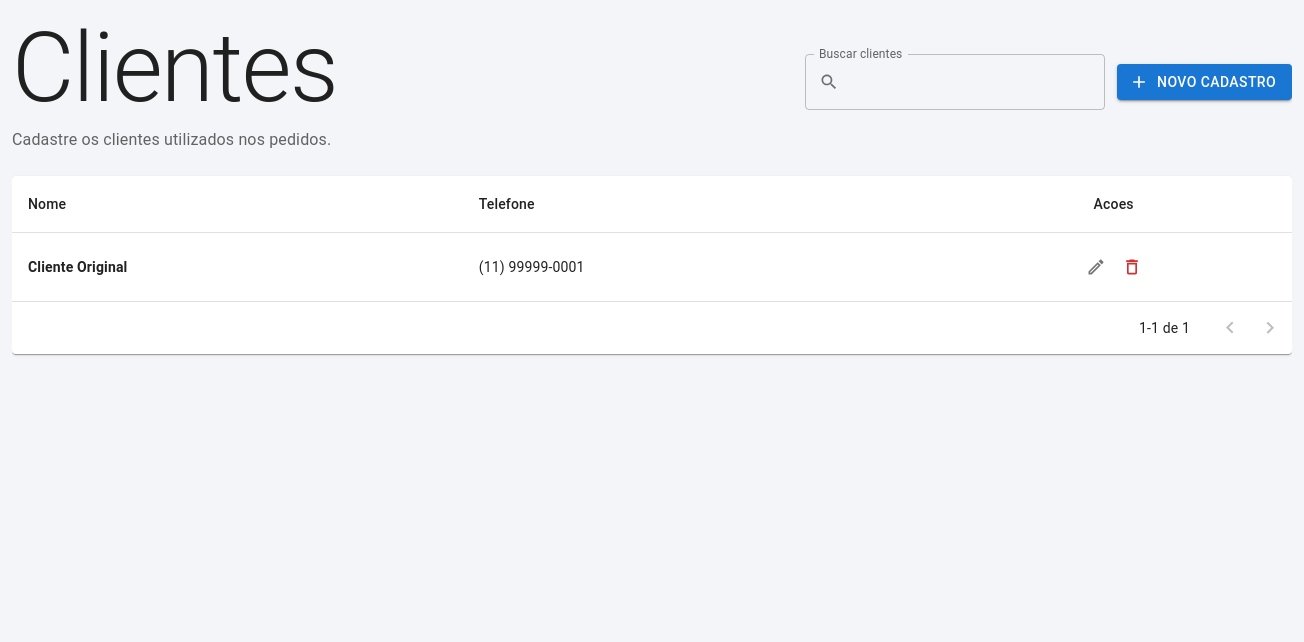
Test: ClientsPage › edita um cliente existente
Expected: the text "Cliente Original" is shown, [12, 232, 463, 302]
Click the button named "Editar Cliente Original" at (1096, 267), box [1078, 249, 1114, 285]
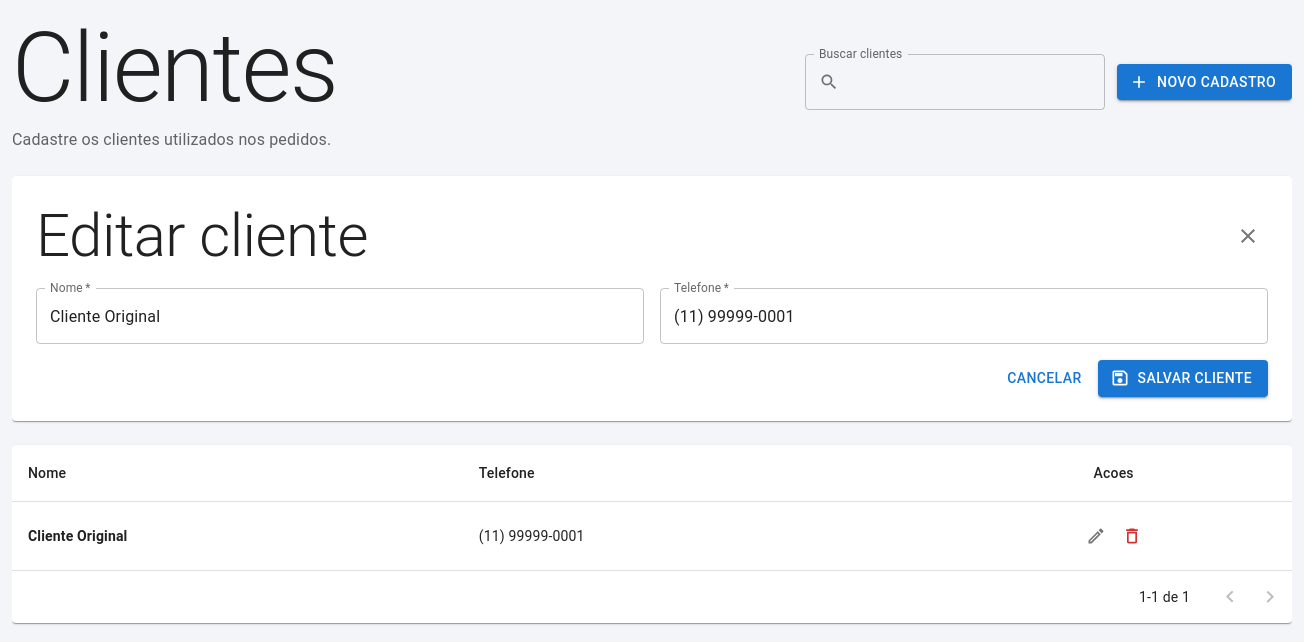
Replace the text in the field labelled "Nome *" with "Cliente Atualizado" at (340, 316), box [36, 288, 644, 344]
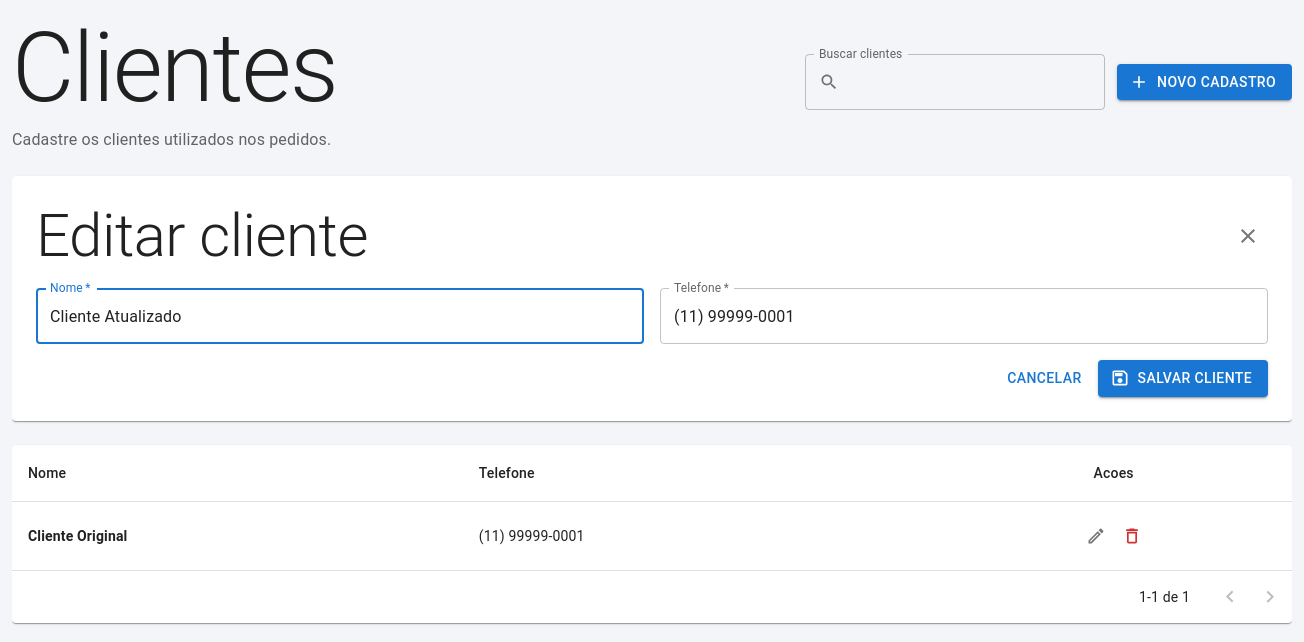
Click the button "Salvar cliente" at (1183, 378), box [1098, 360, 1268, 396]
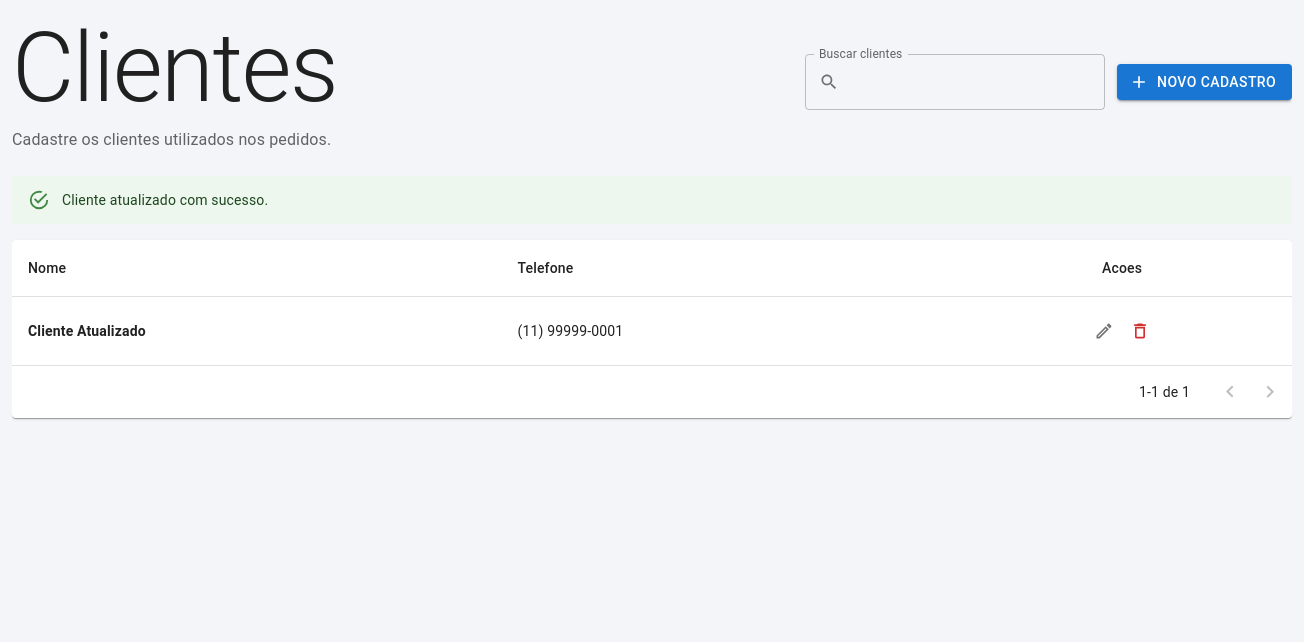
Expected: the text "Cliente Atualizado" is shown, [12, 296, 502, 366]
